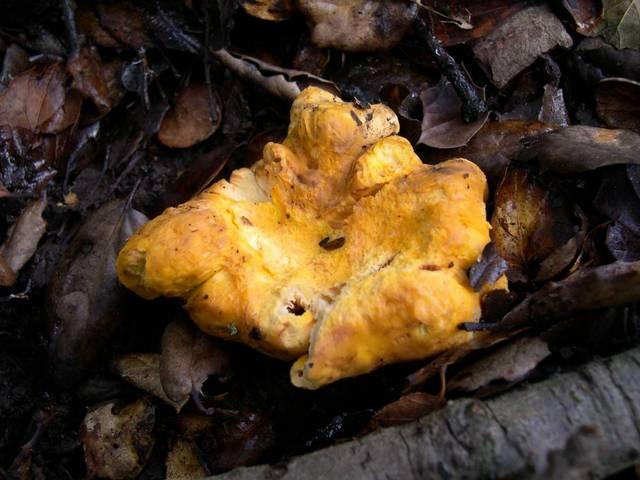Edible Mushroom: (113, 84, 505, 390)
